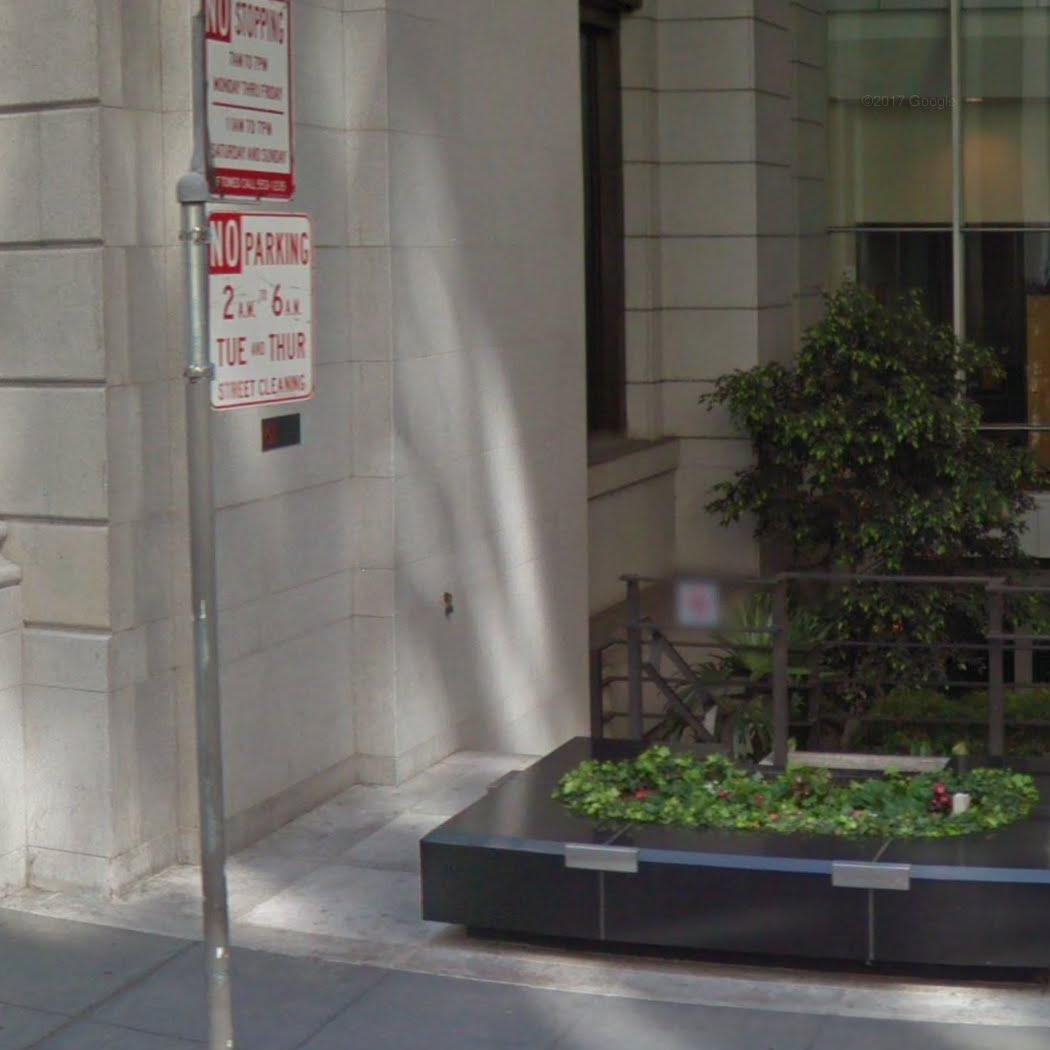No Parking: (199, 208, 318, 412)
